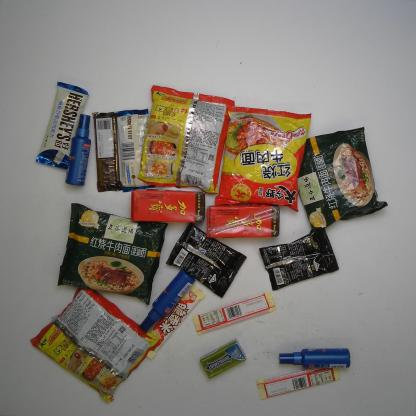Chocolate: (135, 281, 207, 360), (35, 78, 91, 168), (115, 108, 163, 192), (192, 290, 280, 333), (255, 362, 344, 401), (89, 108, 128, 194)
Drink: (127, 185, 211, 225), (204, 201, 283, 240)
Gum: (200, 339, 248, 380)
Instant Drink: (164, 222, 247, 299), (258, 224, 340, 292)
Instant Noodles: (28, 280, 164, 408), (57, 202, 170, 308), (134, 83, 239, 191), (287, 123, 390, 232), (212, 105, 315, 212)
Personal Hygiene: (135, 267, 196, 331), (60, 113, 94, 188), (277, 346, 352, 371)
